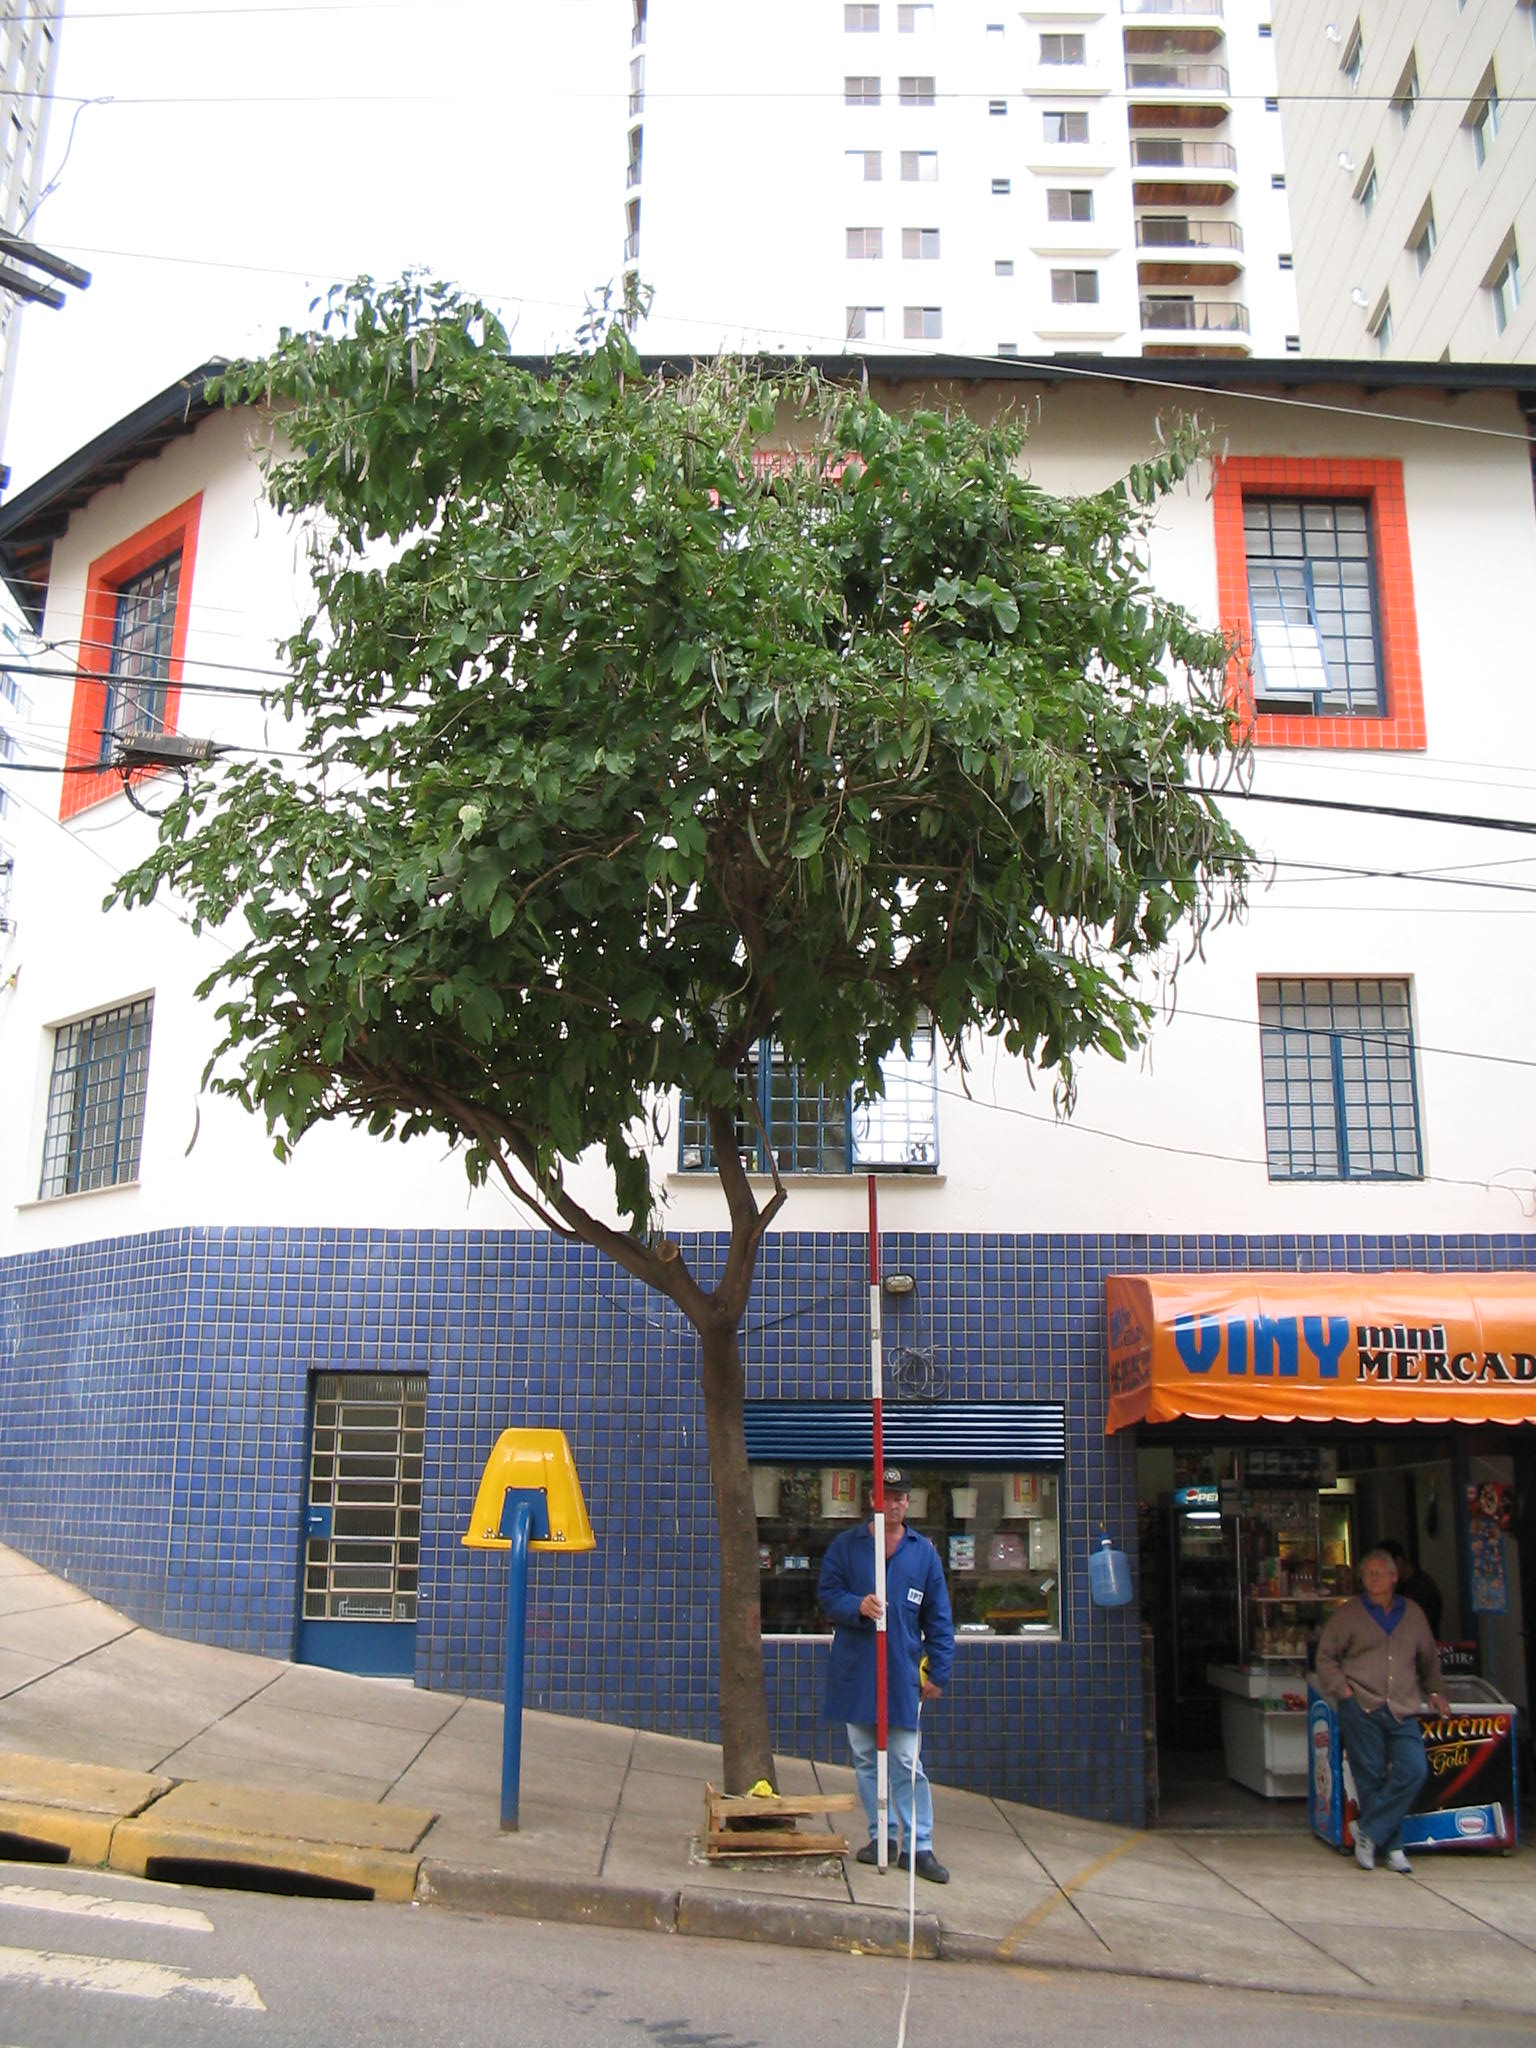crown: (102, 266, 1281, 1276)
stem: (657, 1324, 815, 1845)
stick: (839, 1168, 912, 1871)
tree: (98, 266, 1286, 1850)
